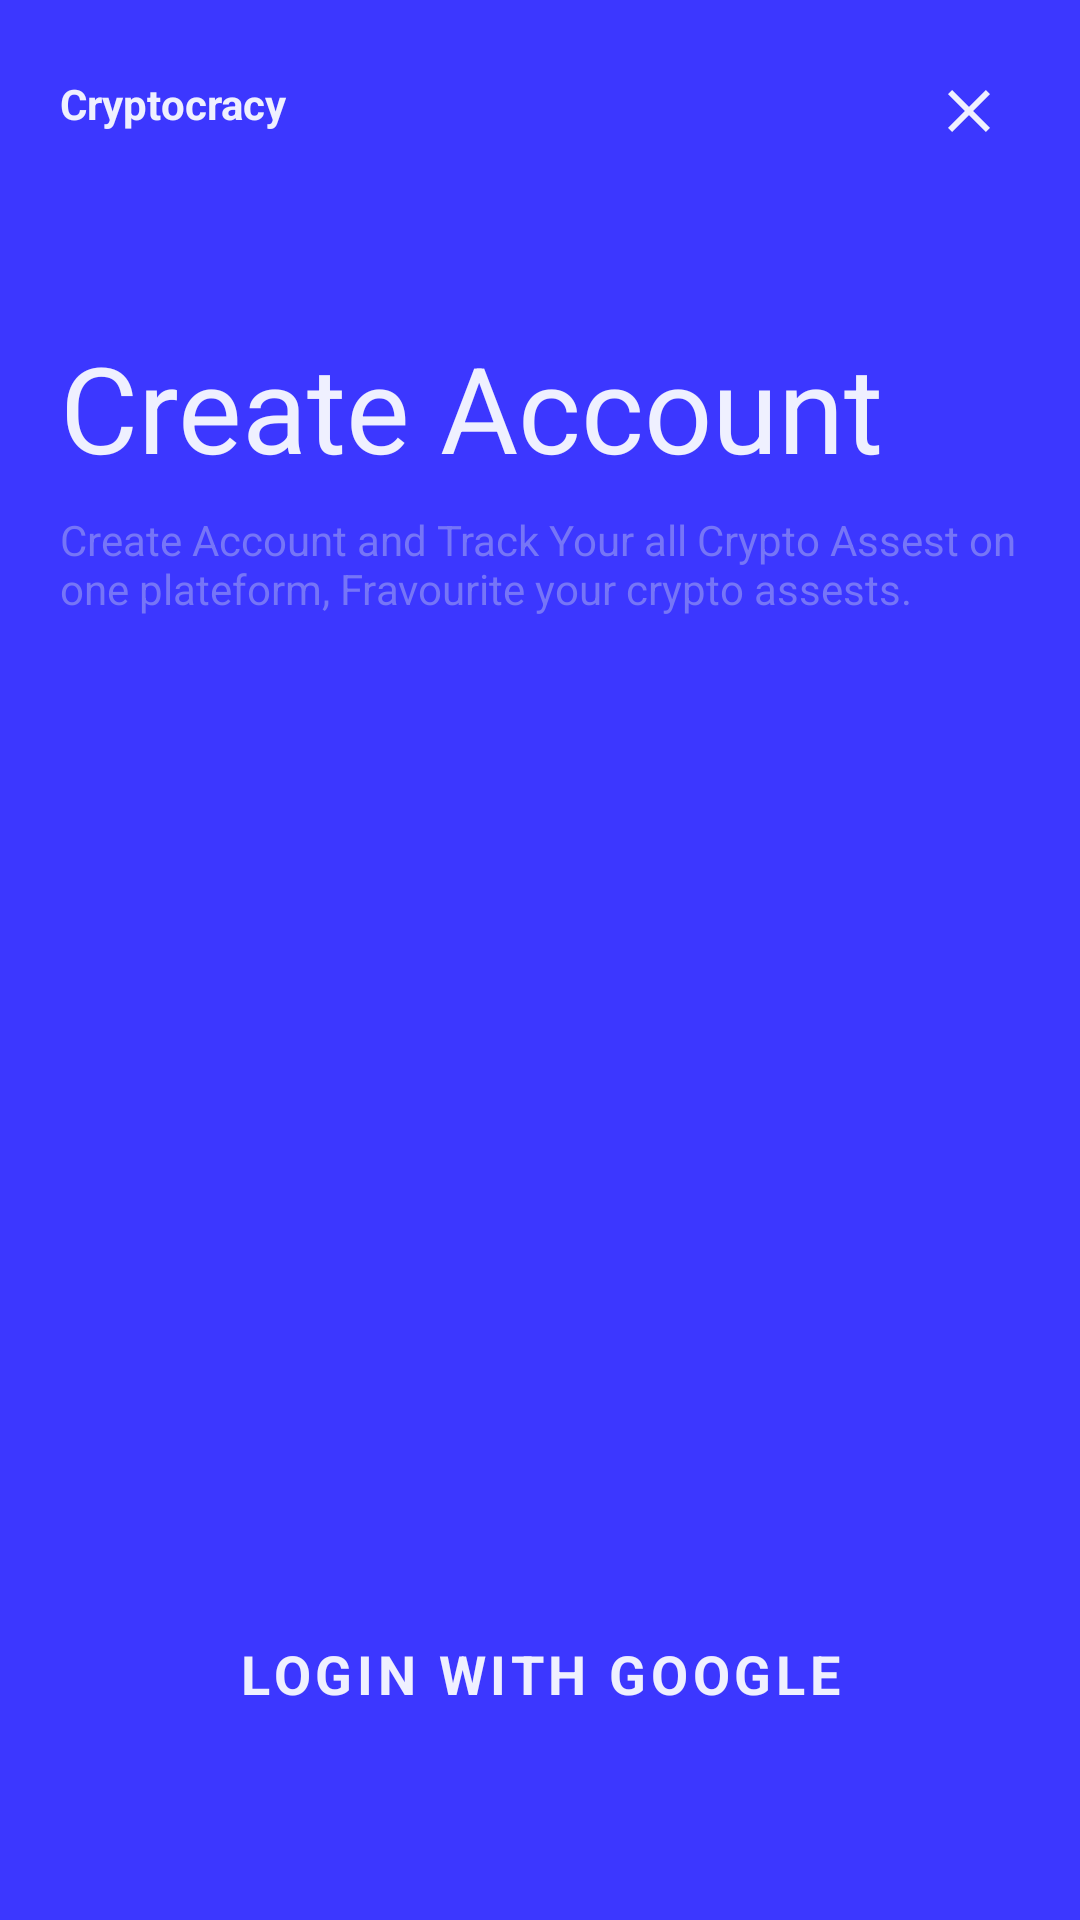

Icon bounding boxes for this 1080w x 1920h phone screenshot, format Rect(x1, y1, x2, y2):
close: Rect(948, 90, 990, 132)
